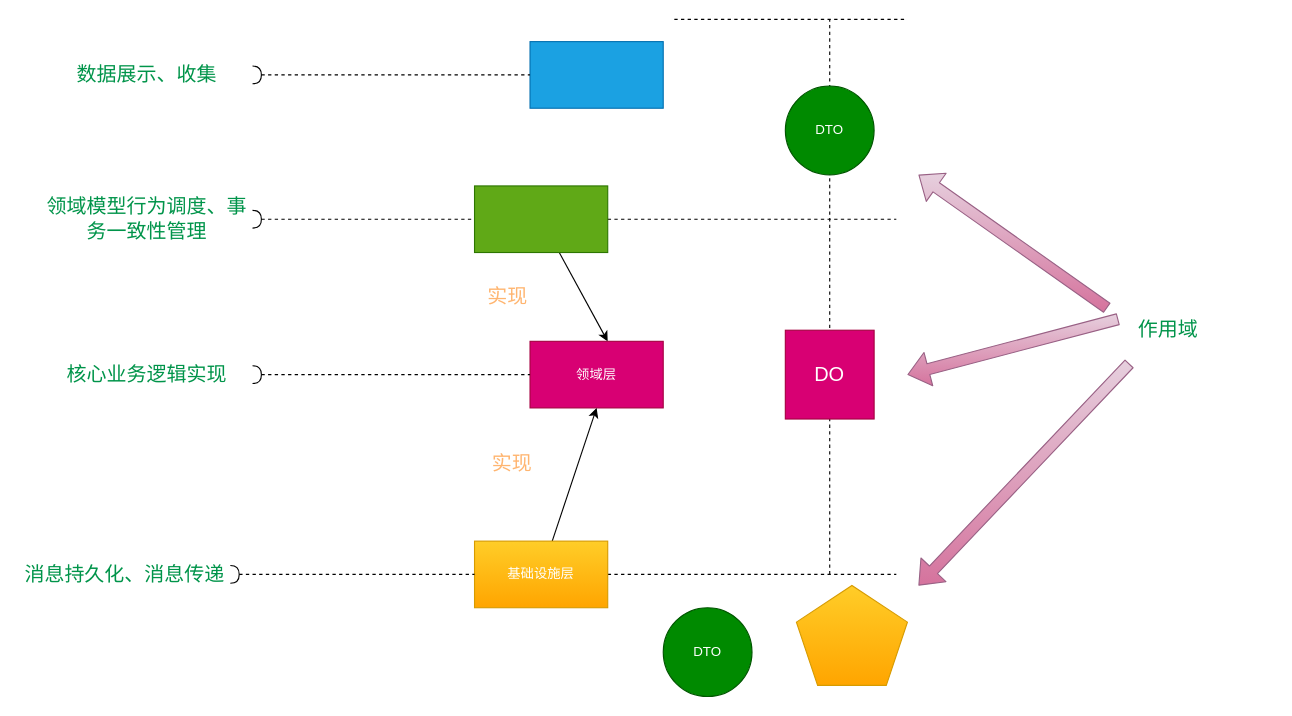
The diagram is 1292 pixels wide and 716 high, and some of its shapes have lost their labels. Each missing label, with the box of its shape:
PO: (795, 584, 907, 685)
应用层: (473, 185, 608, 253)
用户模型层: (529, 41, 663, 108)
